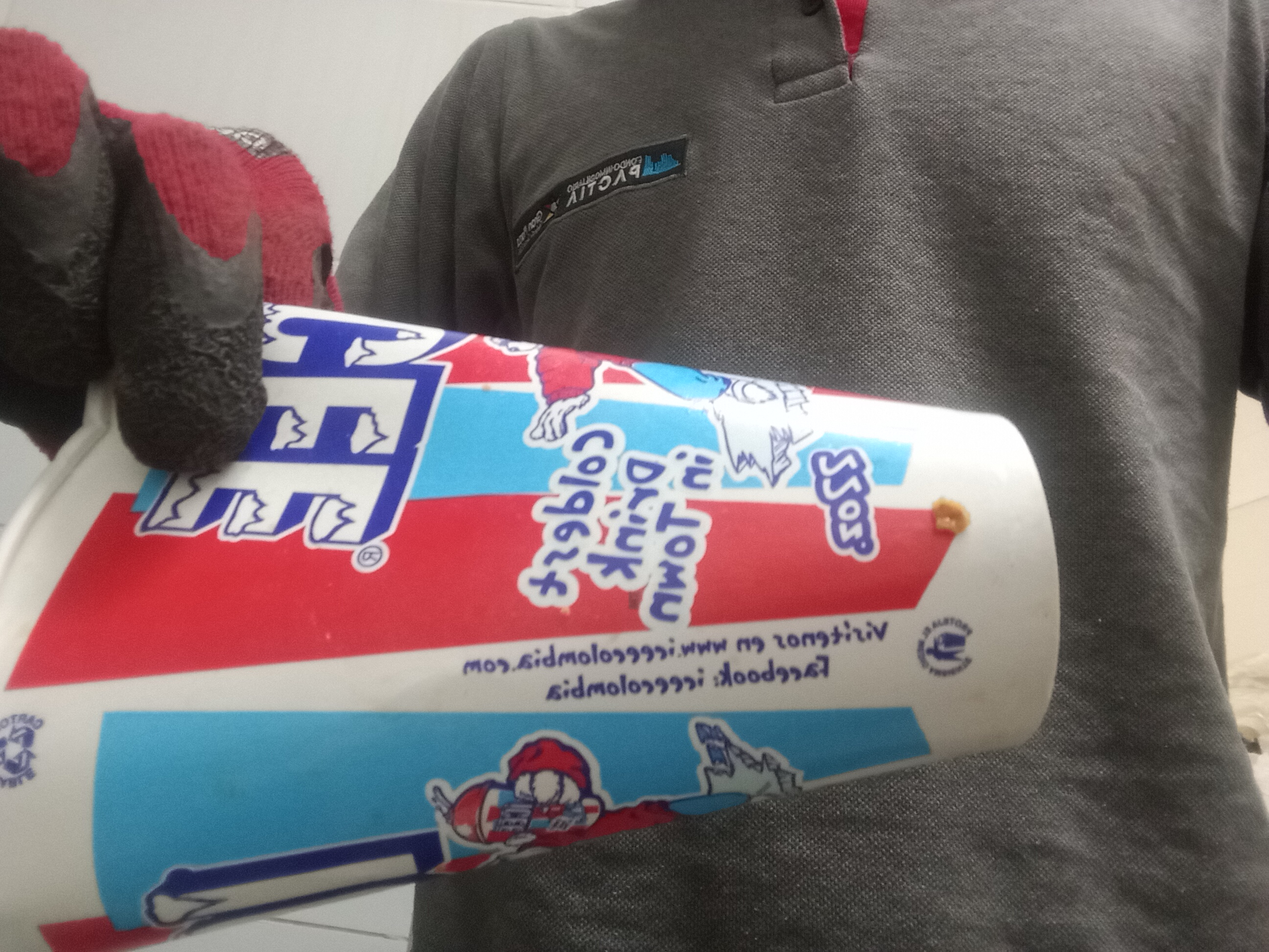Carton: (0, 303, 1062, 952)
